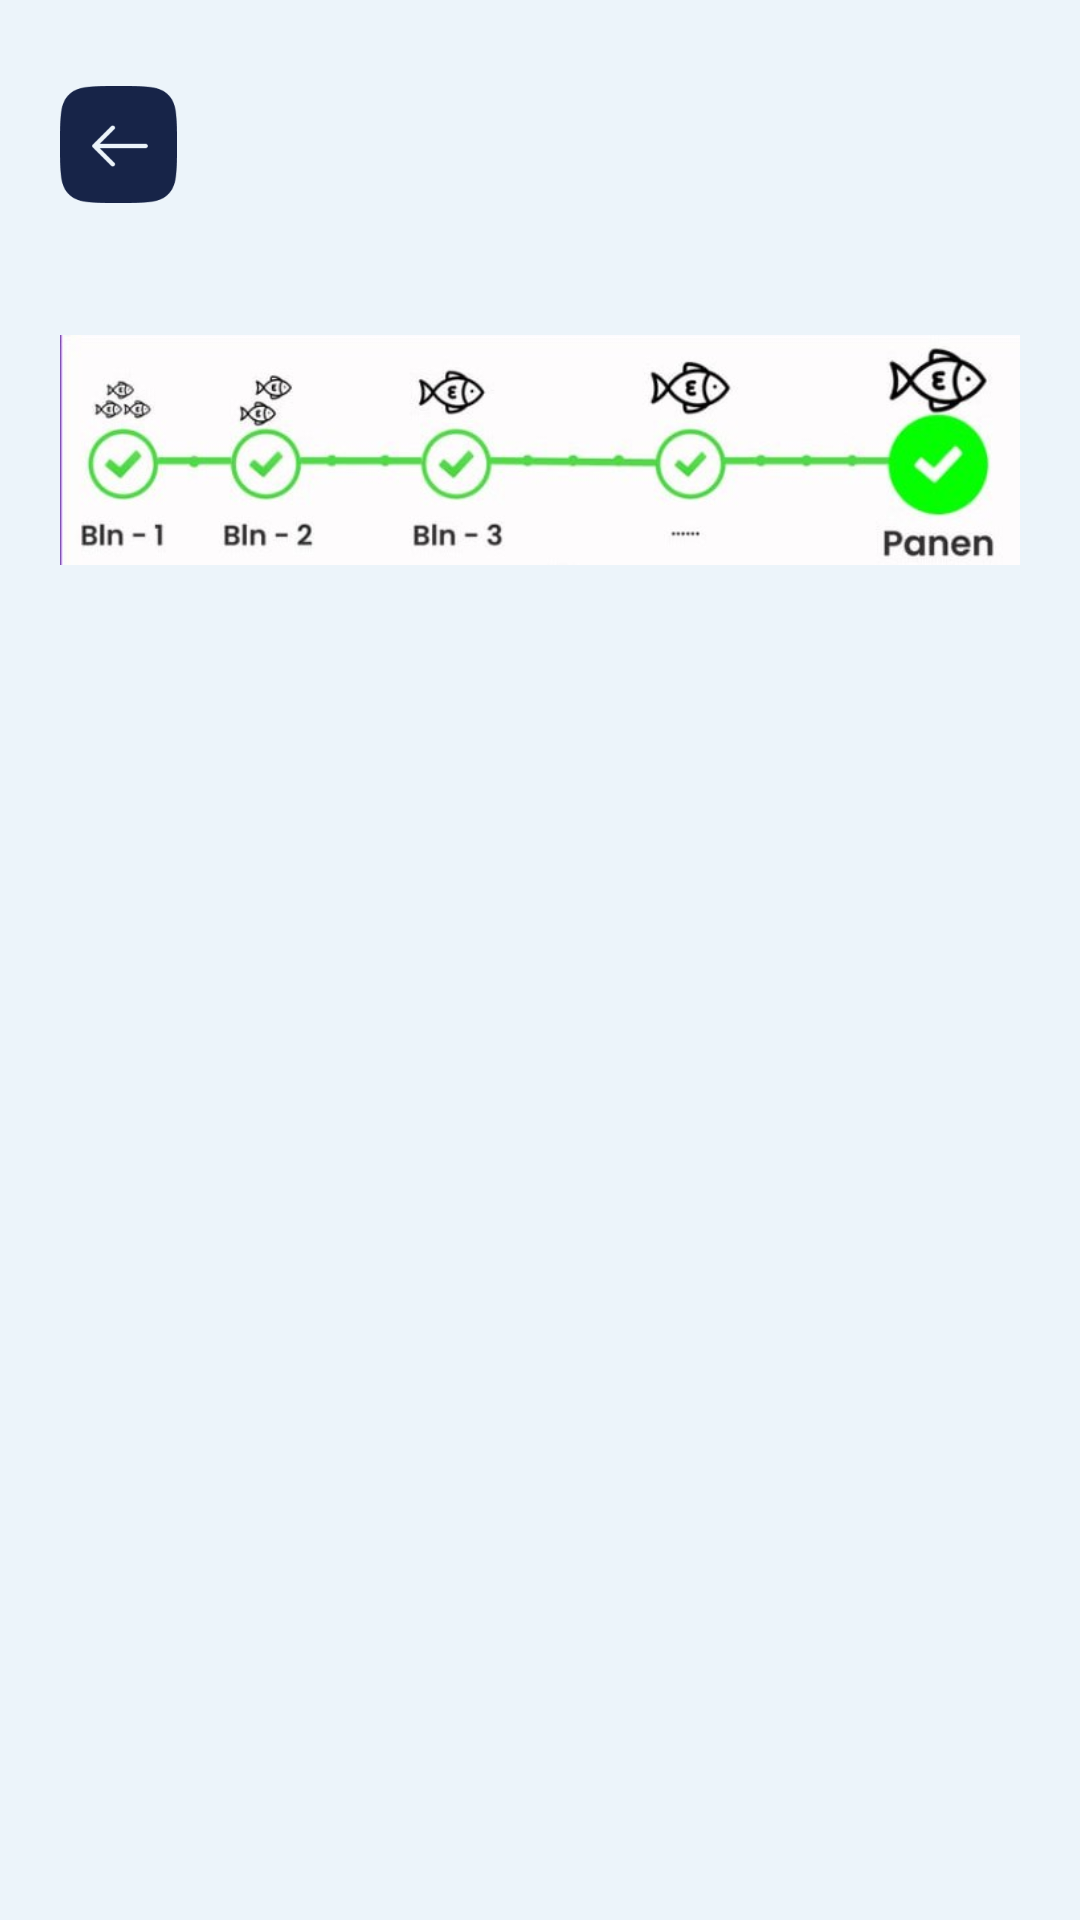

Icon bounding boxes for this 1080 × 1920 phone screenshot, format (x1, y1, x2, y2):
back: (60, 86, 177, 203)
